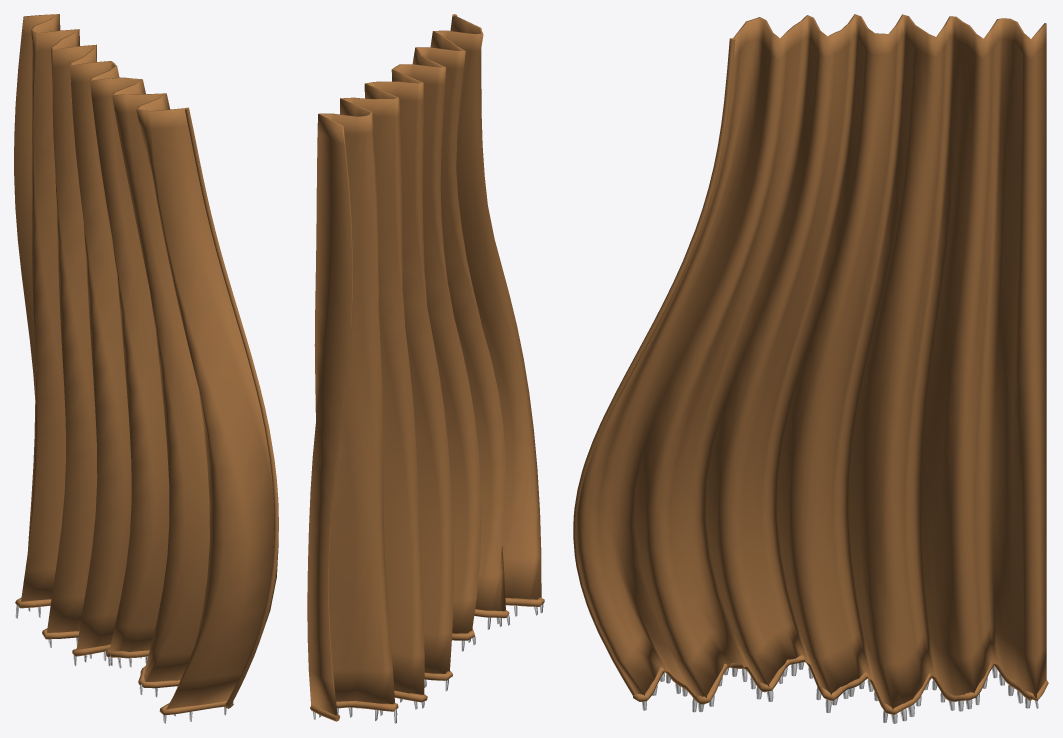
Rendered from SM_Menu_CurtainLeft.fbx.
3 renders of one model, left to right at view 1: azimuth 30°, elevation 25°; view 2: azimuth 150°, elevation 25°; view 3: azimuth 270°, elevation 25°, orthographic. The views are drawn at different scales.
Parts seen in each view (by area): view 1: SM_Menu_CurtainLeft; view 2: SM_Menu_CurtainLeft; view 3: SM_Menu_CurtainLeft.
Part boxes in pixels (x1=…): SM_Menu_CurtainLeft: x1=14, y1=14, x2=278, y2=723; SM_Menu_CurtainLeft: x1=307, y1=14, x2=544, y2=723; SM_Menu_CurtainLeft: x1=573, y1=14, x2=1048, y2=723.
Size of the model in its own units: 98.06 by 384 by 612.
